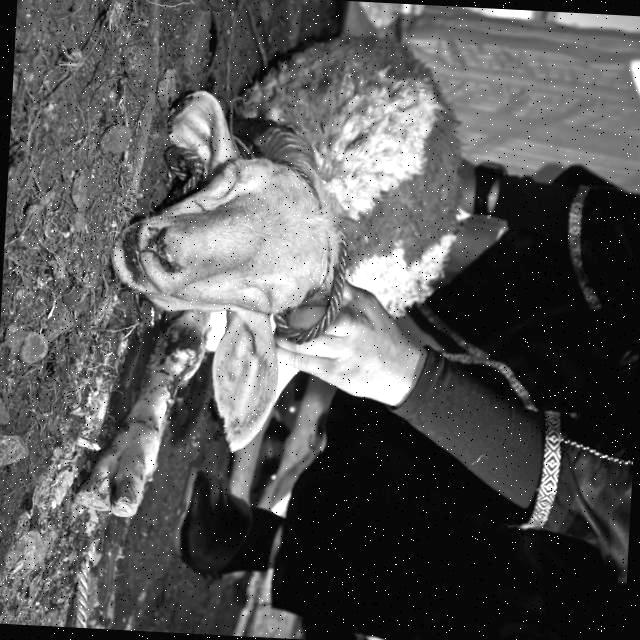sheep: (110, 37, 467, 490)
